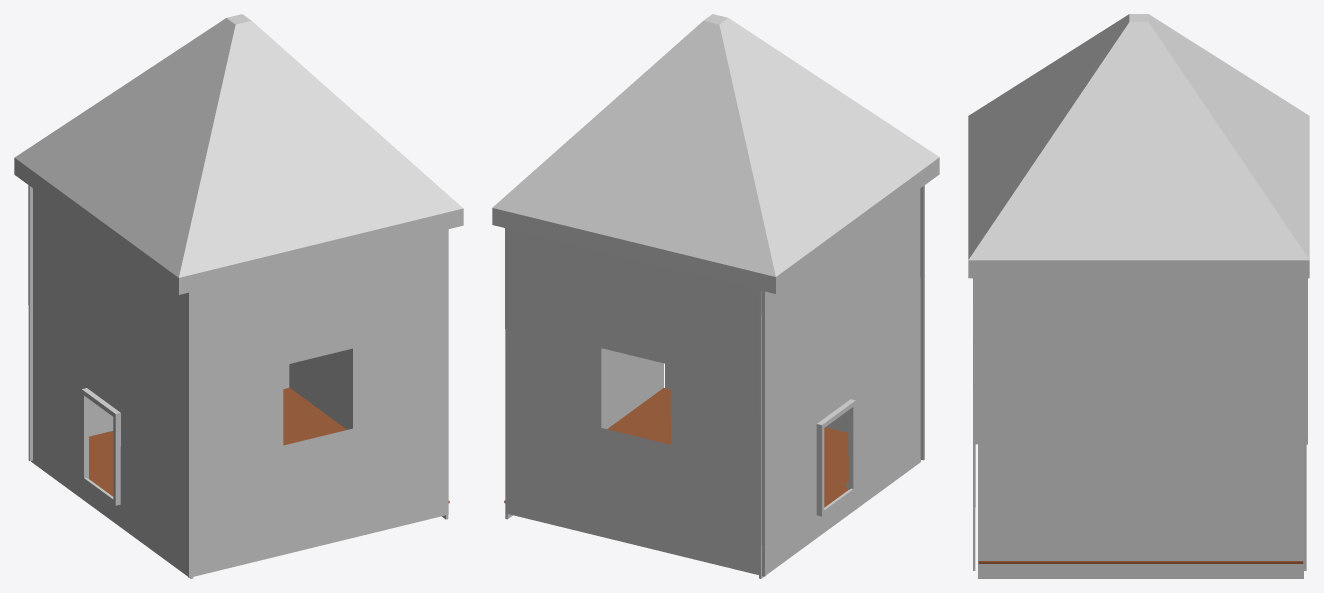
The model's file is housewip.glb.
The picture shows the model from 3 angles, left to right: view 1: azimuth 30°, elevation 25°; view 2: azimuth 150°, elevation 25°; view 3: azimuth 270°, elevation 25°; orthographic projection. The views are drawn at different scales.
Visible parts, largest first — view 1: Plane, wall 1.001, wall 4, wall 3, floor, wall 1; view 2: Plane, wall 1, wall 4, wall 3, floor, wall 1.001; view 3: wall 3, Plane, floor, wall 4, wall 1, wall 1.001.
Boxes of the visible parts, x1,y1,x2,y2 form: Plane: (14,14,463,294); wall 1.001: (187,229,448,577); wall 4: (31,188,193,578); wall 3: (289,229,448,519); floor: (89,387,449,503); wall 1: (28,185,289,460); Plane: (492,14,939,293); wall 1: (506,228,766,576); wall 4: (758,189,920,578); wall 3: (505,228,663,519); floor: (504,388,848,507); wall 1.001: (665,185,924,460); wall 3: (978,278,1303,578); Plane: (968,14,1309,278); floor: (978,561,1303,563); wall 4: (975,278,1307,444); wall 1: (1304,278,1306,570); wall 1.001: (973,278,975,570).
Size of the model in its own units: 17.72 by 28.27 by 17.72.
